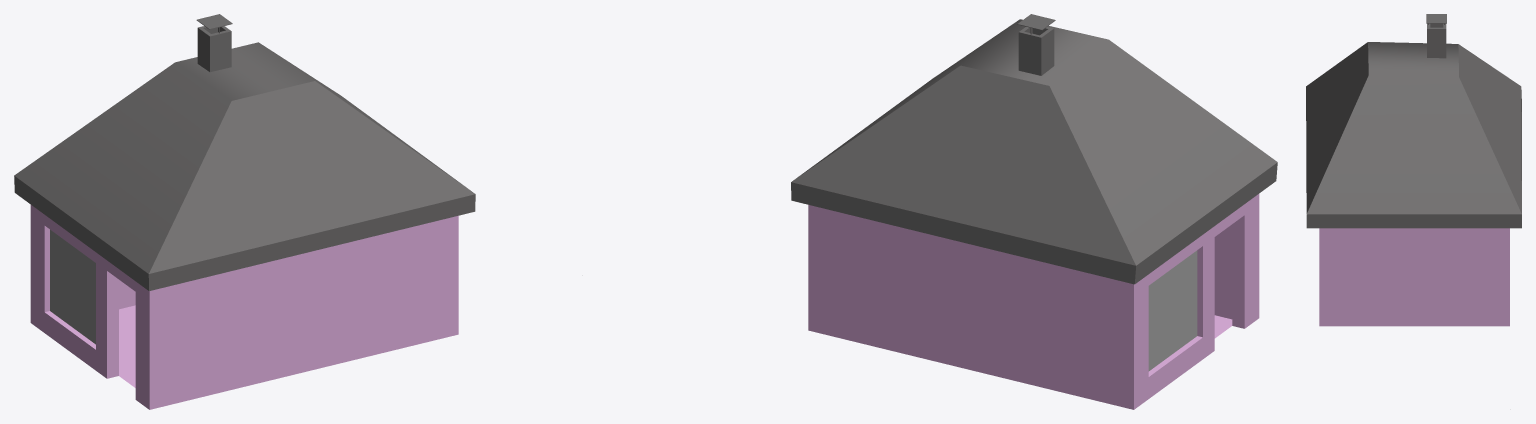
File: baeckerladen_withLights.fbx
3 renders of one model, left to right at view 1: azimuth 30°, elevation 25°; view 2: azimuth 150°, elevation 25°; view 3: azimuth 270°, elevation 25°, orthographic. The views are drawn at different scales.
Visible parts, largest first — view 1: roof, house, window2, kamin; view 2: roof, house, window2, kamin; view 3: roof, house, kamin, kaminOben.
Boxes of the visible parts, x1=… form: roof: x1=14, y1=42, x2=475, y2=291; house: x1=30, y1=205, x2=458, y2=409; window2: x1=50, y1=229, x2=95, y2=344; kamin: x1=197, y1=26, x2=231, y2=72; roof: x1=791, y1=19, x2=1277, y2=284; house: x1=808, y1=194, x2=1259, y2=409; window2: x1=1148, y1=250, x2=1197, y2=371; kamin: x1=1018, y1=26, x2=1054, y2=75; roof: x1=1306, y1=42, x2=1521, y2=228; house: x1=1319, y1=228, x2=1509, y2=326; kamin: x1=1427, y1=23, x2=1446, y2=58; kaminOben: x1=1426, y1=14, x2=1446, y2=23.
Bounding box in the file's own units: 10.34 × 5.58 × 4.53.
